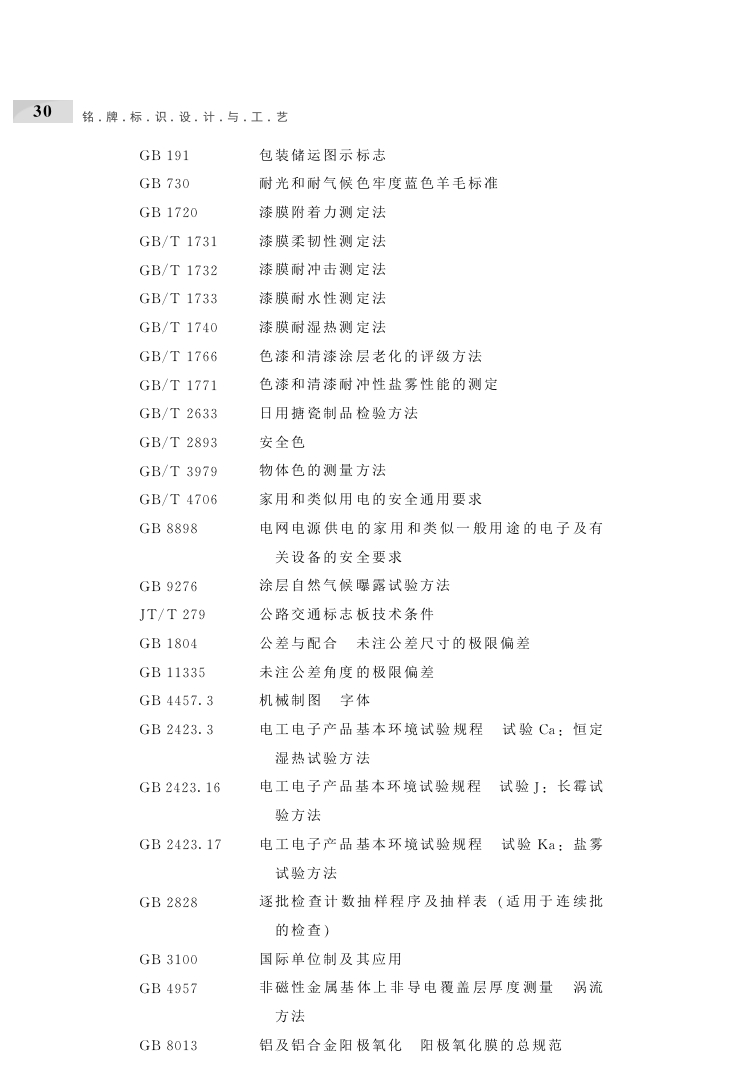table: (139, 147, 603, 1051)
